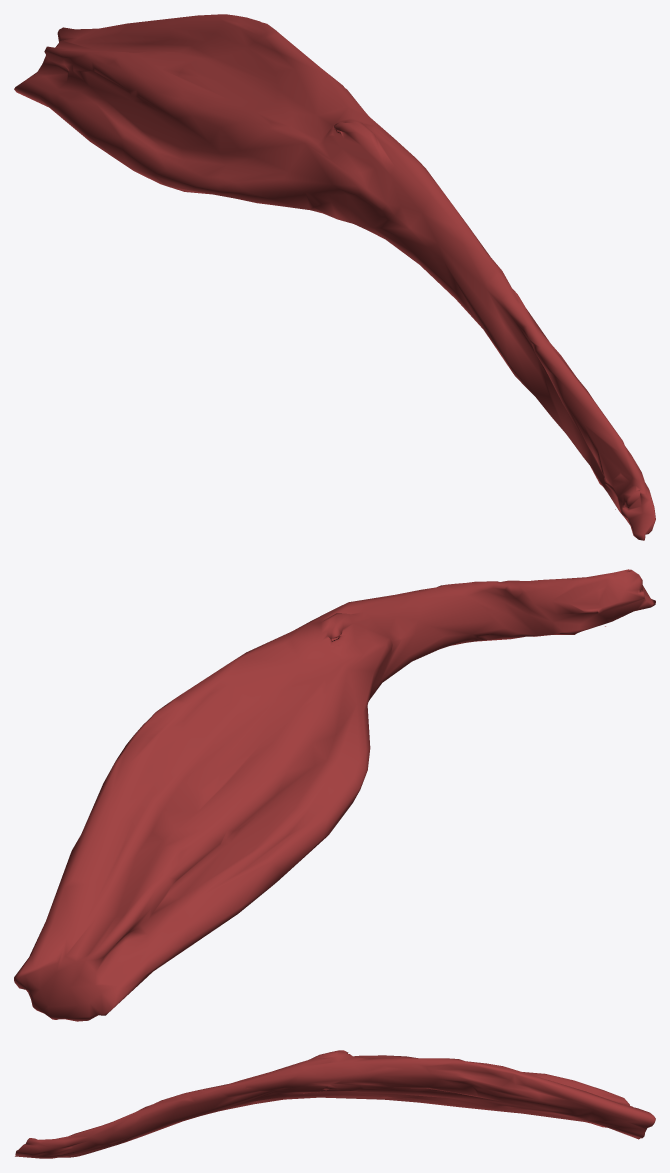
The model's file is abductor-hallucis-r.glb.
The picture shows the model from 3 angles, top to bottom: view 1: azimuth 30°, elevation 25°; view 2: azimuth 150°, elevation 25°; view 3: azimuth 270°, elevation 25°; orthographic projection. The views are drawn at different scales.
Parts seen in each view (by area): view 1: Abductor hallucis.r; view 2: Abductor hallucis.r; view 3: Abductor hallucis.r.
Boxes of the visible parts, bbox=[...] form: Abductor hallucis.r: bbox=[14, 14, 655, 540]; Abductor hallucis.r: bbox=[14, 569, 655, 1021]; Abductor hallucis.r: bbox=[15, 1050, 655, 1158].
Size of the model in its own units: 0.0204 by 0.0269 by 0.1452.
